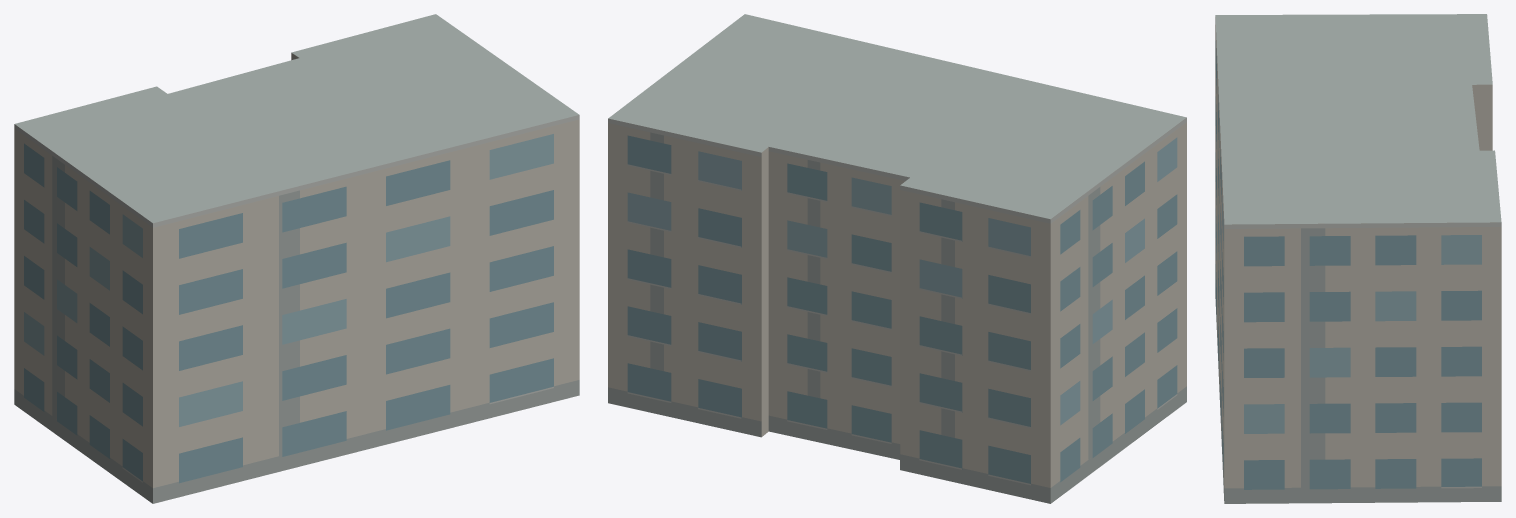
The model's file is survey-upis-32503984.glb.
3 views of the same model, side by side, from view 1: azimuth 30°, elevation 25°; view 2: azimuth 150°, elevation 25°; view 3: azimuth 270°, elevation 25° (orthographic).
Visible parts, largest first — view 1: survey-upis-32503984.tmp; view 2: survey-upis-32503984.tmp; view 3: survey-upis-32503984.tmp.
Boxes of the visible parts, box(x1,y1,x2,y2) form: survey-upis-32503984.tmp: box(14, 14, 579, 503); survey-upis-32503984.tmp: box(608, 14, 1186, 503); survey-upis-32503984.tmp: box(1215, 14, 1501, 503).
Bounding box in the file's own units: 24.65 × 15.25 × 14.17.
